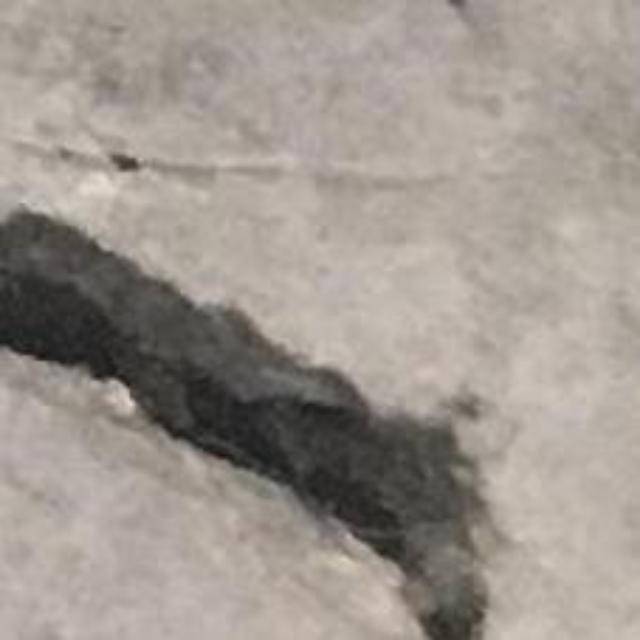crack: (0, 206, 487, 639)
